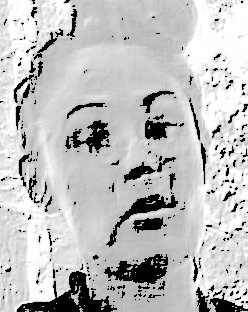nose_M_C: (119, 129, 162, 186)
